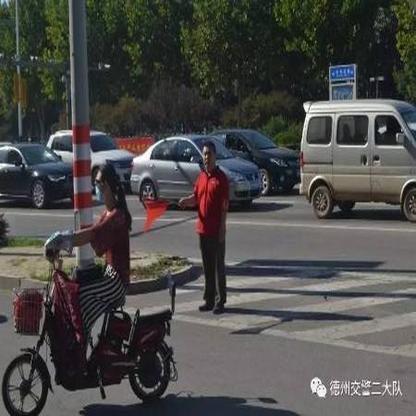target: (5, 164, 179, 412)
